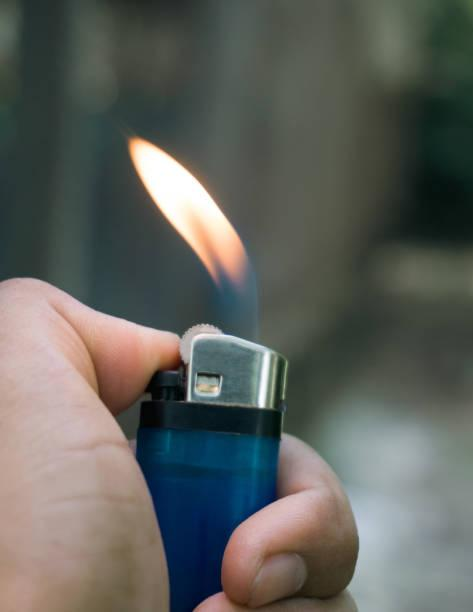Fire: (121, 120, 271, 325)
